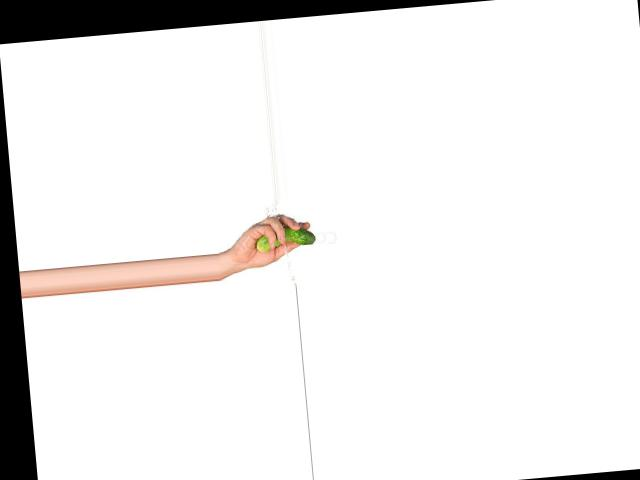cucumber: (254, 224, 316, 251)
